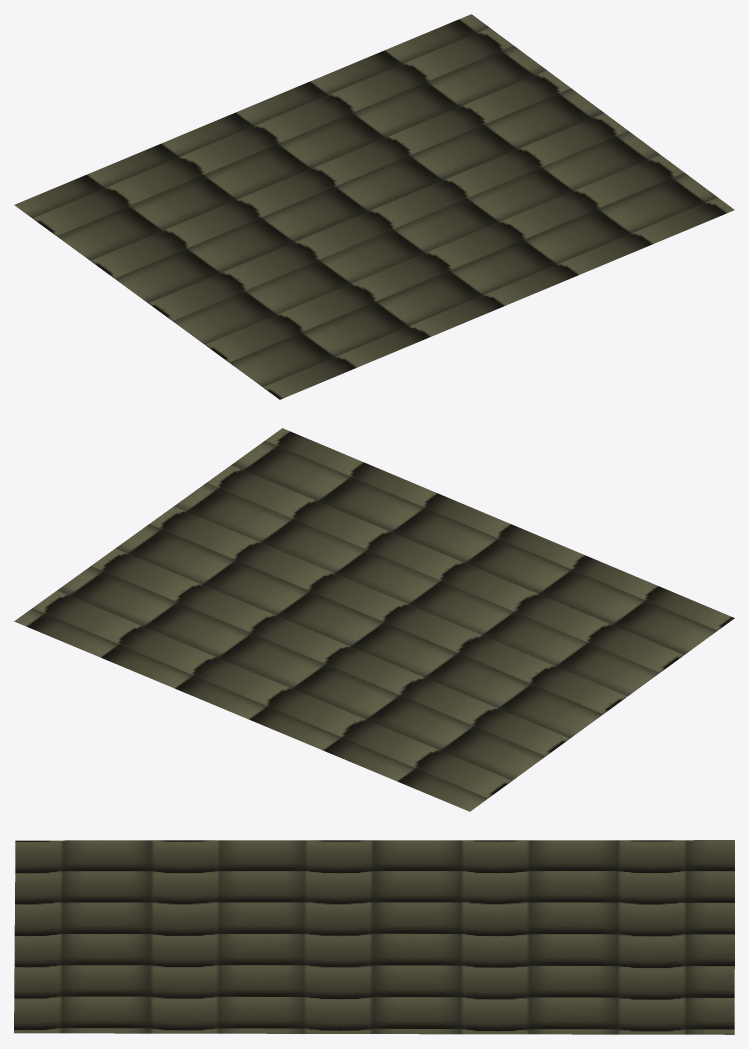
File: NNJ0510069.fbx
The picture shows the model from 3 angles, top to bottom: view 1: azimuth 30°, elevation 25°; view 2: azimuth 150°, elevation 25°; view 3: azimuth 270°, elevation 25°; orthographic projection. The views are drawn at different scales.
Parts seen in each view (by area): view 1: smNNJ0510069; view 2: smNNJ0510069; view 3: smNNJ0510069.
Part boxes in pixels (left/top/right/bottom): smNNJ0510069: left=14, top=14, right=734, bottom=399; smNNJ0510069: left=14, top=428, right=734, bottom=811; smNNJ0510069: left=14, top=840, right=734, bottom=1034.
Bounding box in the file's own units: 274 × 45.58 × 276.
Materials: 1 (1 with a texture image).
